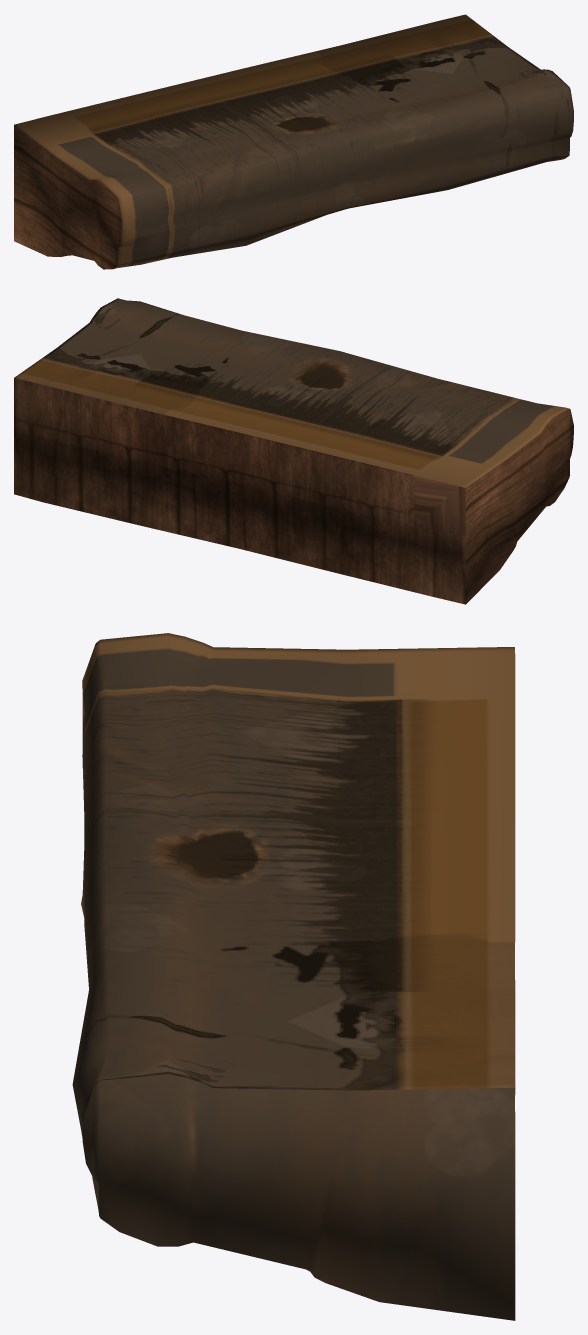
Rendered from Platforms floor 5m.fbx.
The picture shows the model from 3 angles, top to bottom: view 1: azimuth 30°, elevation 25°; view 2: azimuth 150°, elevation 25°; view 3: azimuth 270°, elevation 25°; orthographic projection. The views are drawn at different scales.
Parts seen in each view (by area): view 1: LP++.002; view 2: LP++.002; view 3: LP++.002.
Part boxes in pixels (x1,y1,x2,y2): LP++.002: (14,14,573,269); LP++.002: (14,298,573,604); LP++.002: (72,633,515,1320).
Size of the model in its own units: 499 by 132 by 212.
